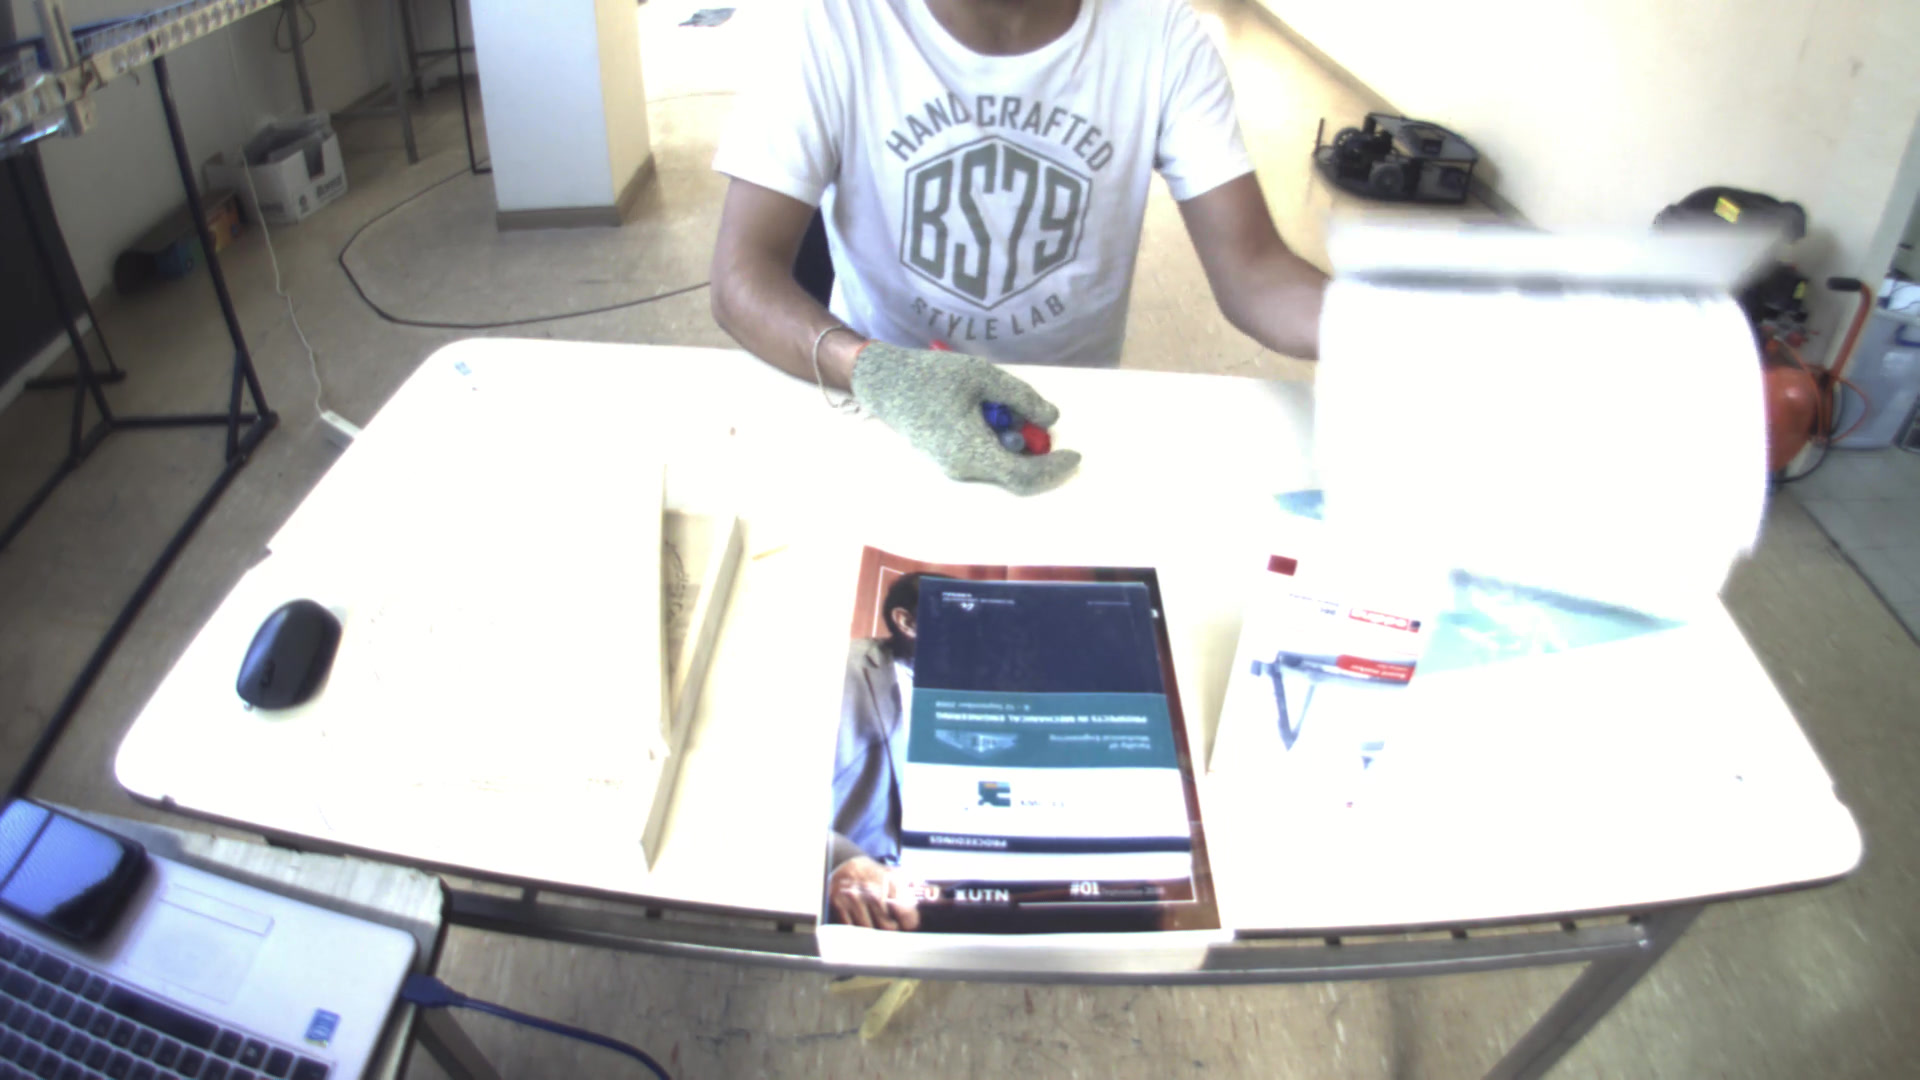hand: (839, 328, 1073, 498)
